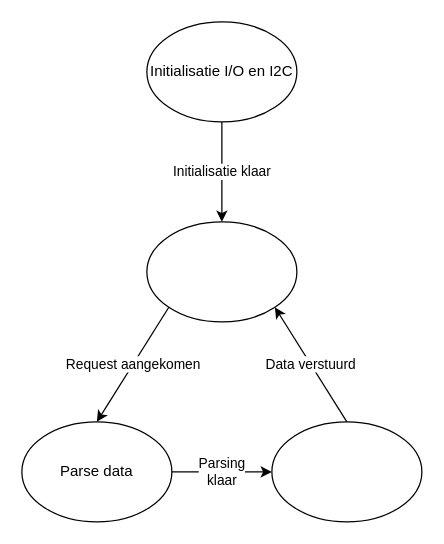
This 444x544 diagram has some shape labels left out. The box of each missing label's shape, as (x1, y1, x2, y2) in pixels:
Data versturen: (271, 421, 422, 522)
Lees sensor data: (146, 221, 297, 322)
